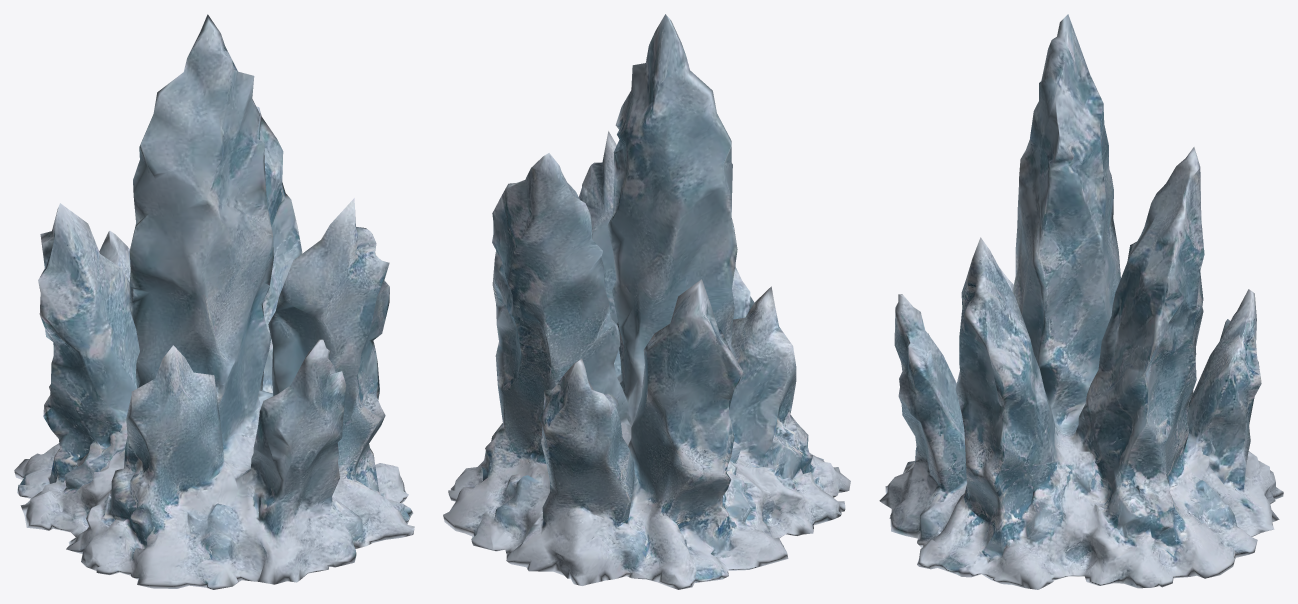
The model's file is ice.glb.
3 views of the same model, side by side, from view 1: azimuth 30°, elevation 25°; view 2: azimuth 150°, elevation 25°; view 3: azimuth 270°, elevation 25° (orthographic).
Parts seen in each view (by area): view 1: tripo_node_e76844a2-2717-449d-a112-3c3d2a643e10; view 2: tripo_node_e76844a2-2717-449d-a112-3c3d2a643e10; view 3: tripo_node_e76844a2-2717-449d-a112-3c3d2a643e10.
Boxes of the visible parts, x1,y1,x2,y2 form: tripo_node_e76844a2-2717-449d-a112-3c3d2a643e10: (14,14,414,589); tripo_node_e76844a2-2717-449d-a112-3c3d2a643e10: (443,14,850,589); tripo_node_e76844a2-2717-449d-a112-3c3d2a643e10: (879,14,1283,589).
Bounding box in the file's own units: 0.6988 × 1 × 0.7481.
Materials: 1 (1 with a texture image).
